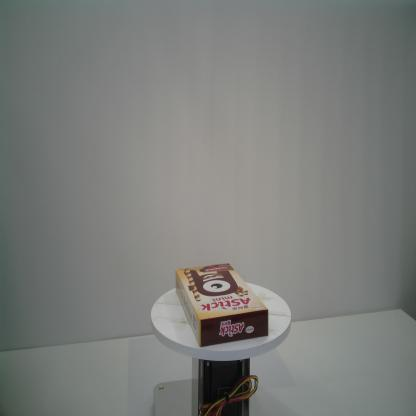Dessert: (174, 262, 269, 347)
